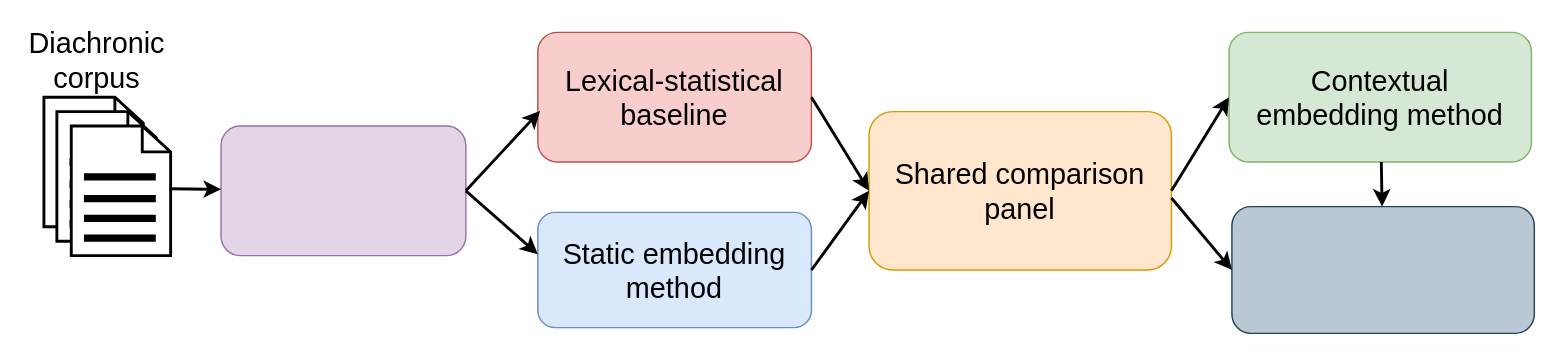
This 1560x359 diagram has some shape labels left out. Each missing label, with the box of its shape:
Agreement layer correlations, overlap, trajectories, cost: (1230, 205, 1534, 333)
Temporal slicing & Preprocessing: (220, 125, 466, 256)
